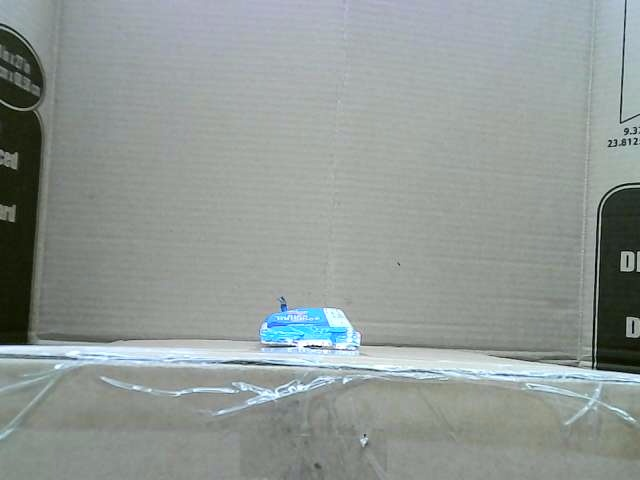CandyWrapper: (259, 303, 362, 349)
